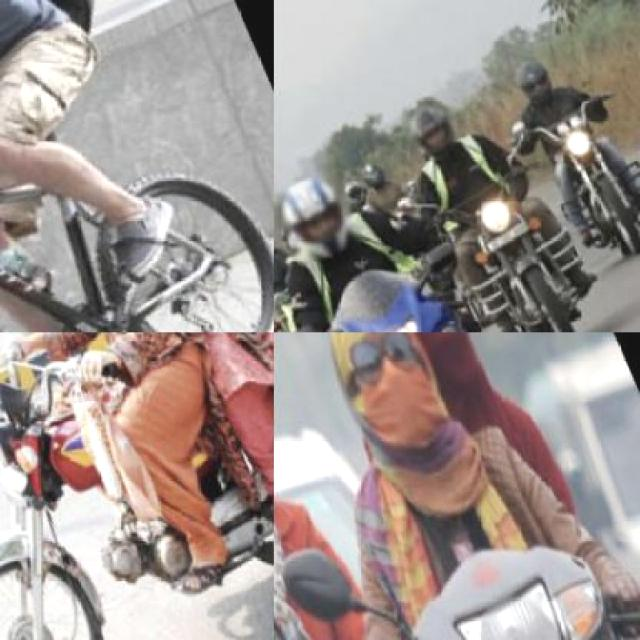With Helmet: (274, 161, 378, 274), (402, 91, 472, 160), (511, 48, 569, 110), (359, 151, 398, 192), (274, 232, 286, 280)
Without Helmet: (294, 332, 497, 490), (332, 332, 510, 403)
